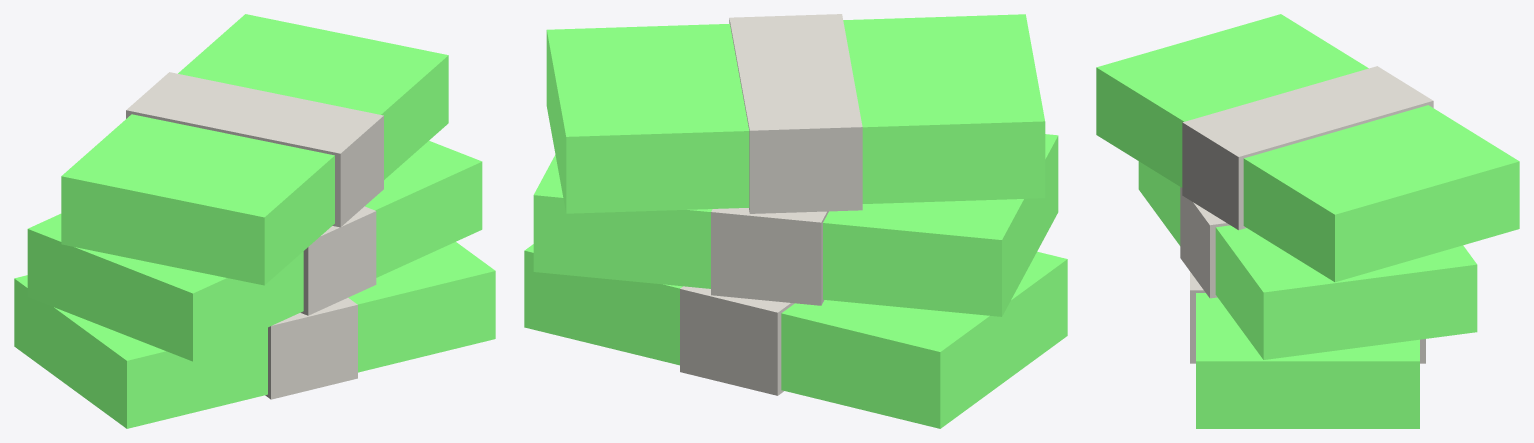
Rendered from pk_cash.glb.
3 renders of one model, left to right at view 1: azimuth 30°, elevation 25°; view 2: azimuth 150°, elevation 25°; view 3: azimuth 270°, elevation 25°, orthographic. The views are drawn at different scales.
Visible parts, largest first — view 1: pk_cash; view 2: pk_cash; view 3: pk_cash.
Boxes of the visible parts, x1,y1,x2,y2 form: pk_cash: (14,14,495,428); pk_cash: (524,14,1067,428); pk_cash: (1096,14,1519,428).
Bounding box in the file's own units: 0.3822 × 0.205 × 0.3405.
